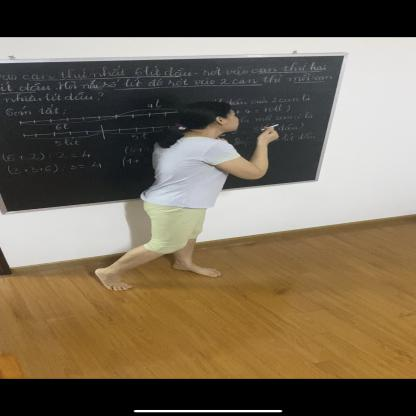cigarette: (268, 124, 280, 128)
person: (95, 104, 283, 288)
